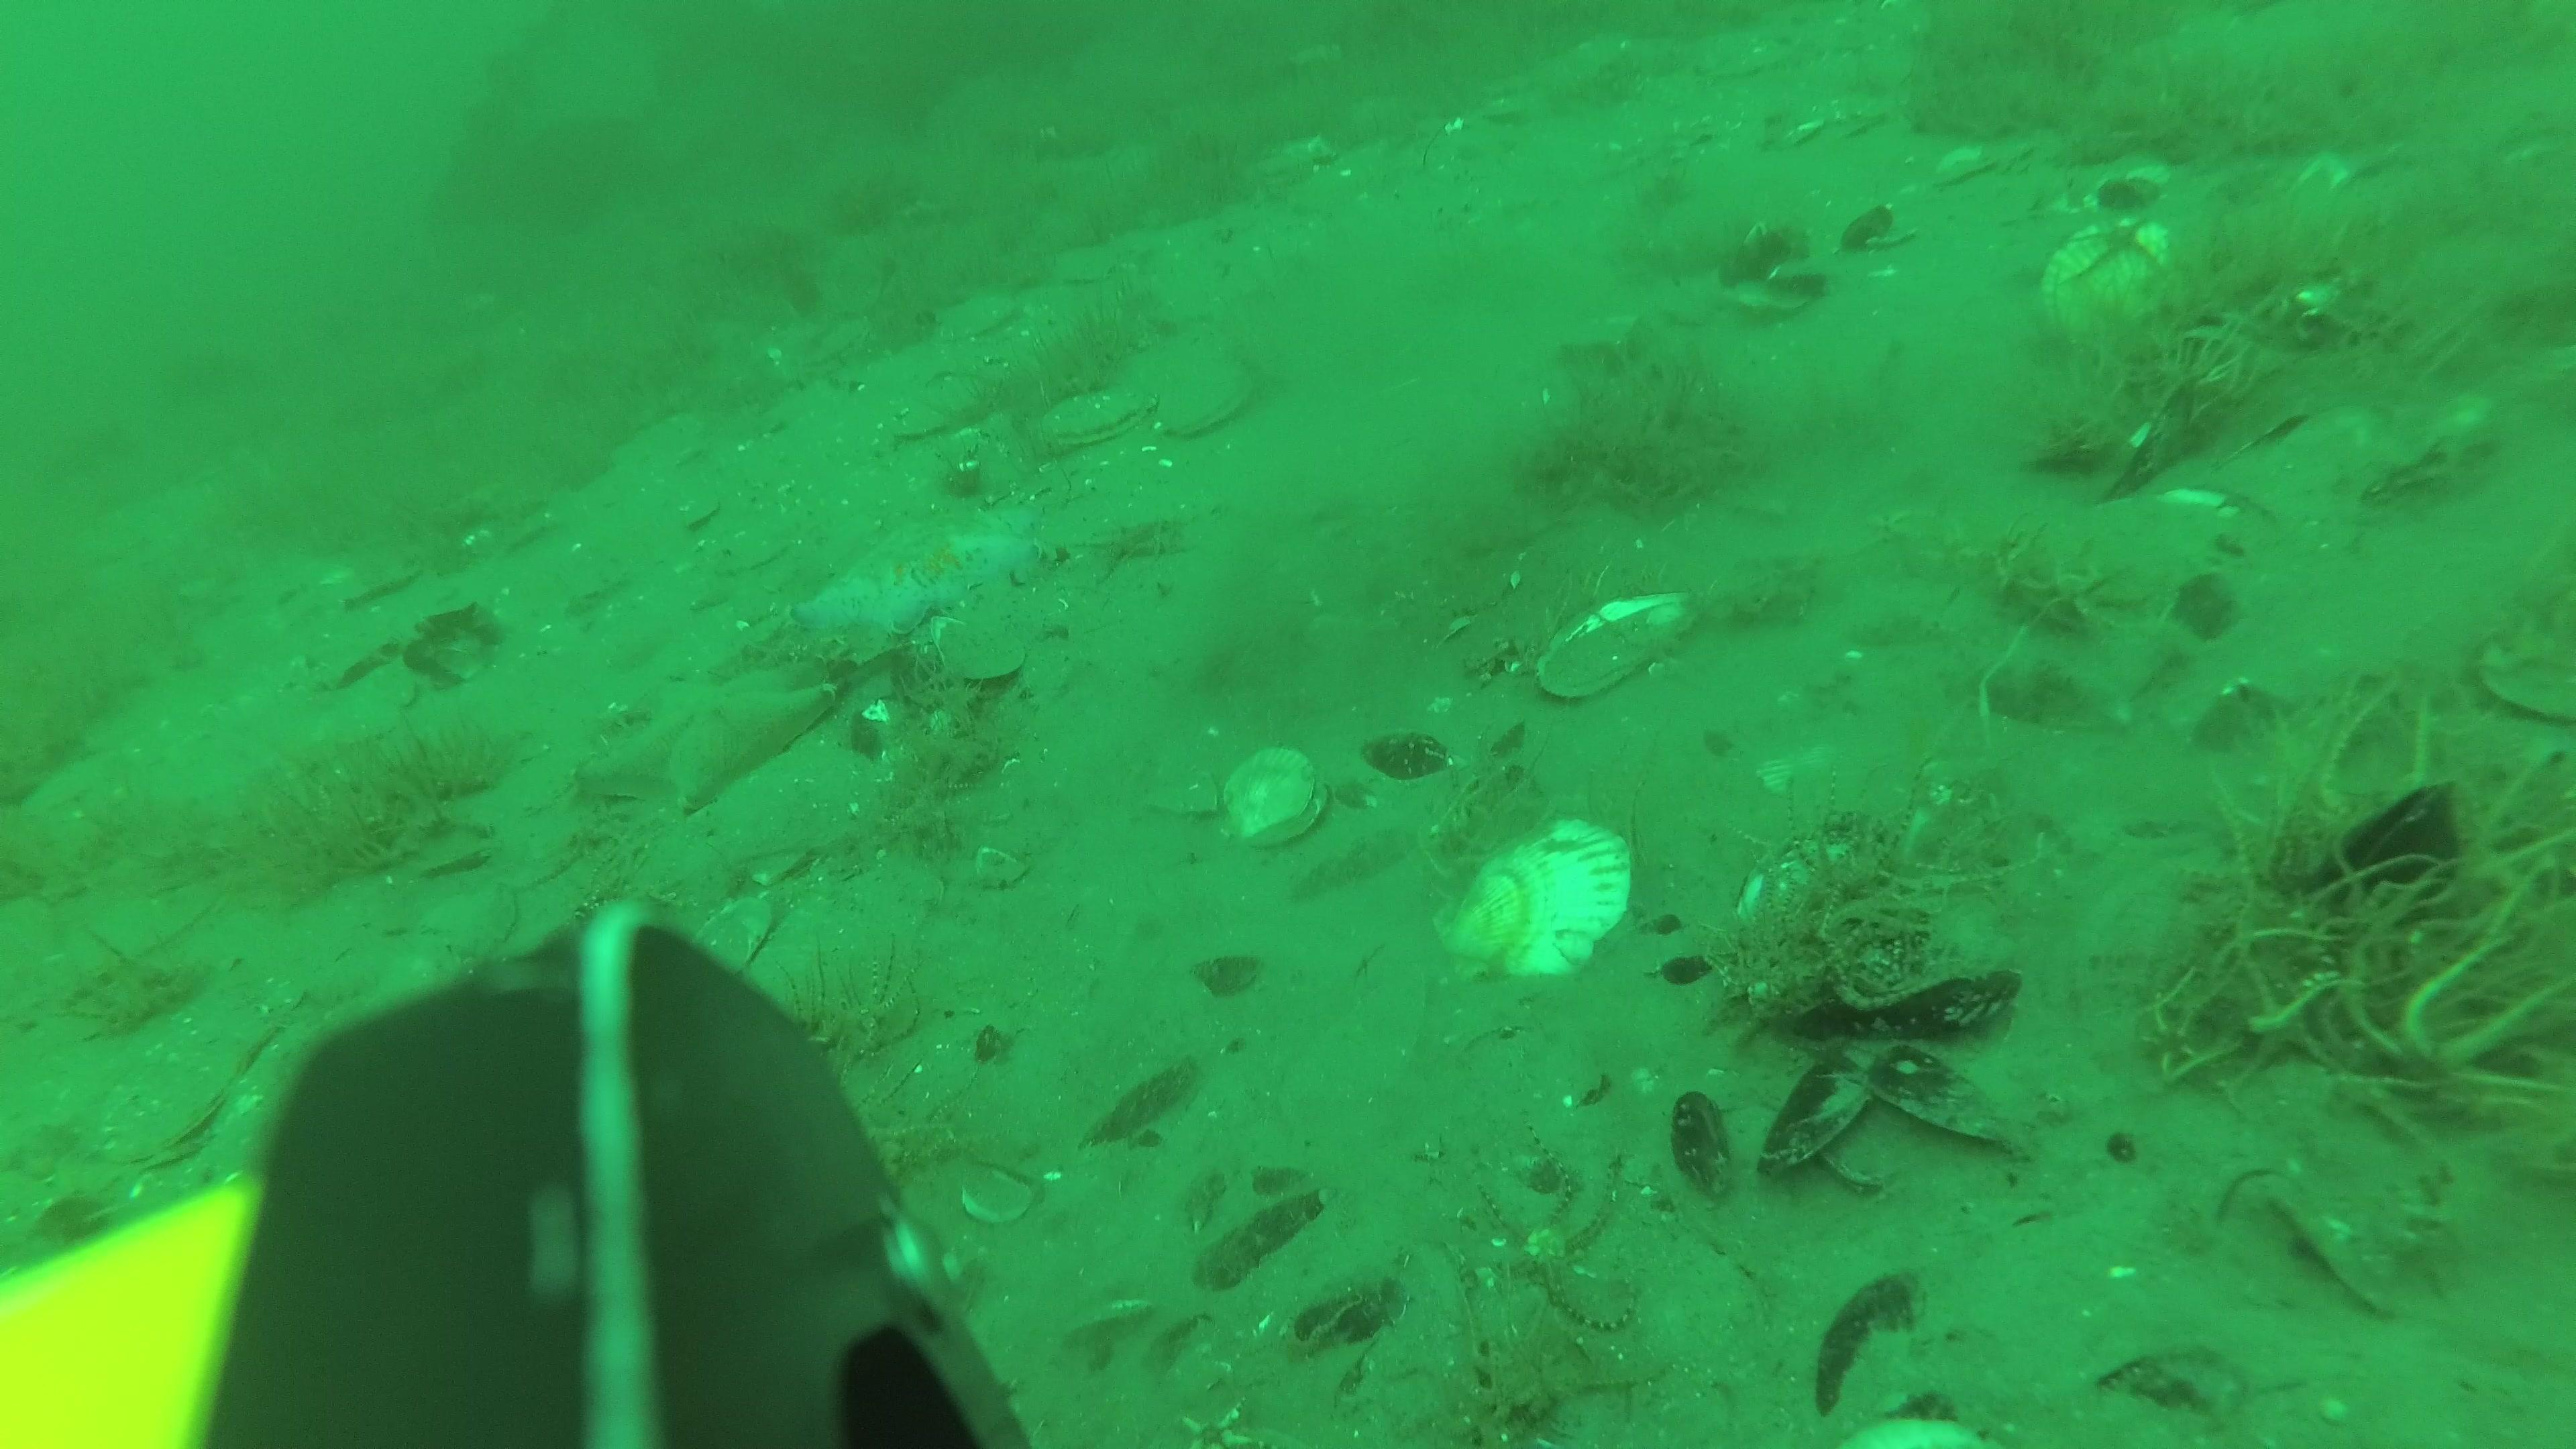scallop: (1438, 824, 1628, 984), (1529, 589, 1702, 702), (2042, 226, 2169, 345), (1219, 748, 1336, 844), (1168, 340, 1254, 441), (1046, 382, 1152, 442)
starfish: (584, 658, 847, 812), (789, 511, 1047, 637)
